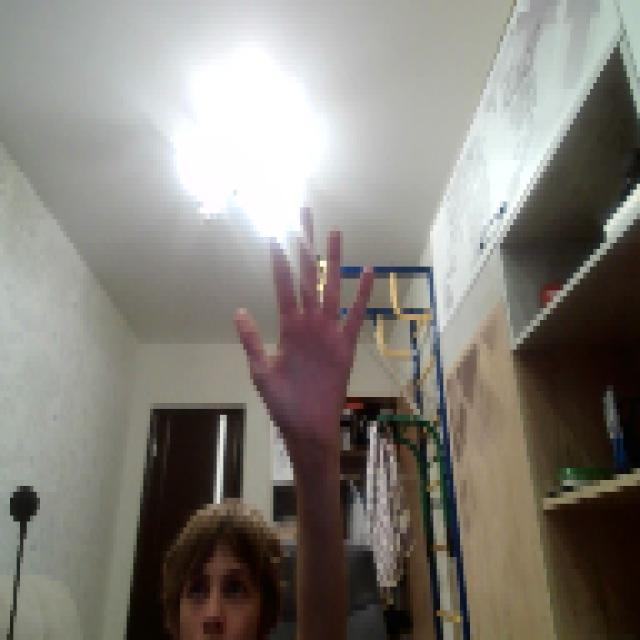hand: (227, 196, 370, 444)
